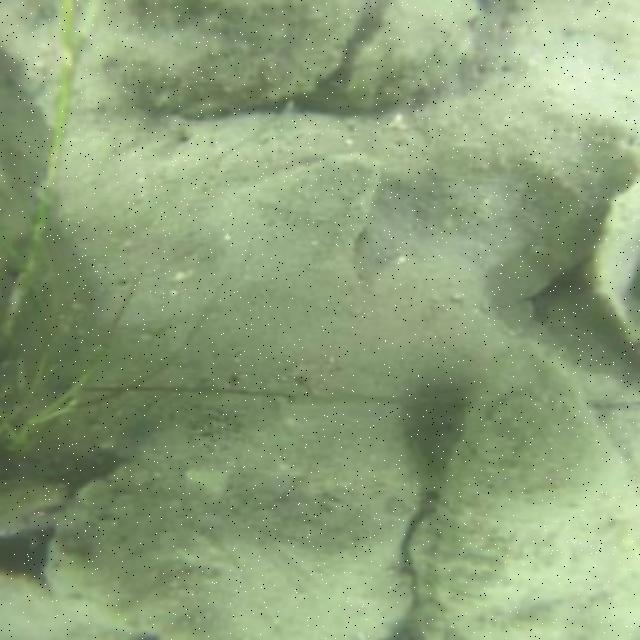Oyster-Closed: (51, 396, 442, 634), (415, 362, 638, 638), (81, 0, 364, 115), (338, 0, 476, 106), (240, 157, 378, 258)
